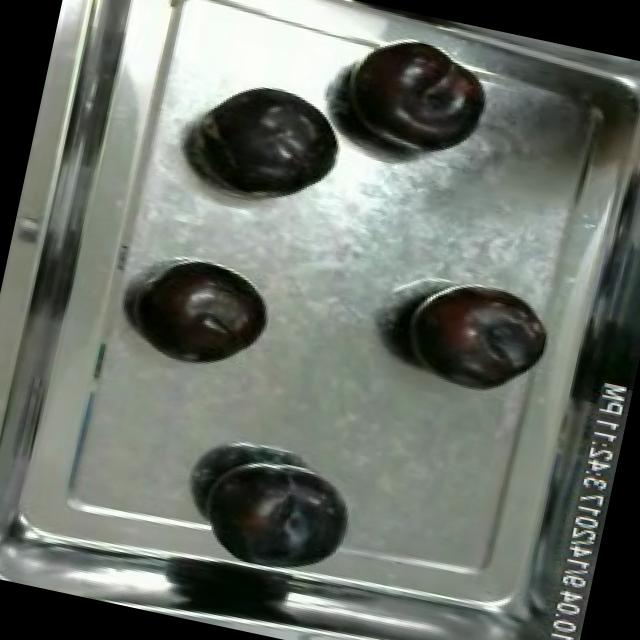Fruit: (186, 439, 366, 586), (324, 24, 500, 173), (386, 266, 558, 404), (188, 73, 354, 214), (128, 257, 276, 380)
